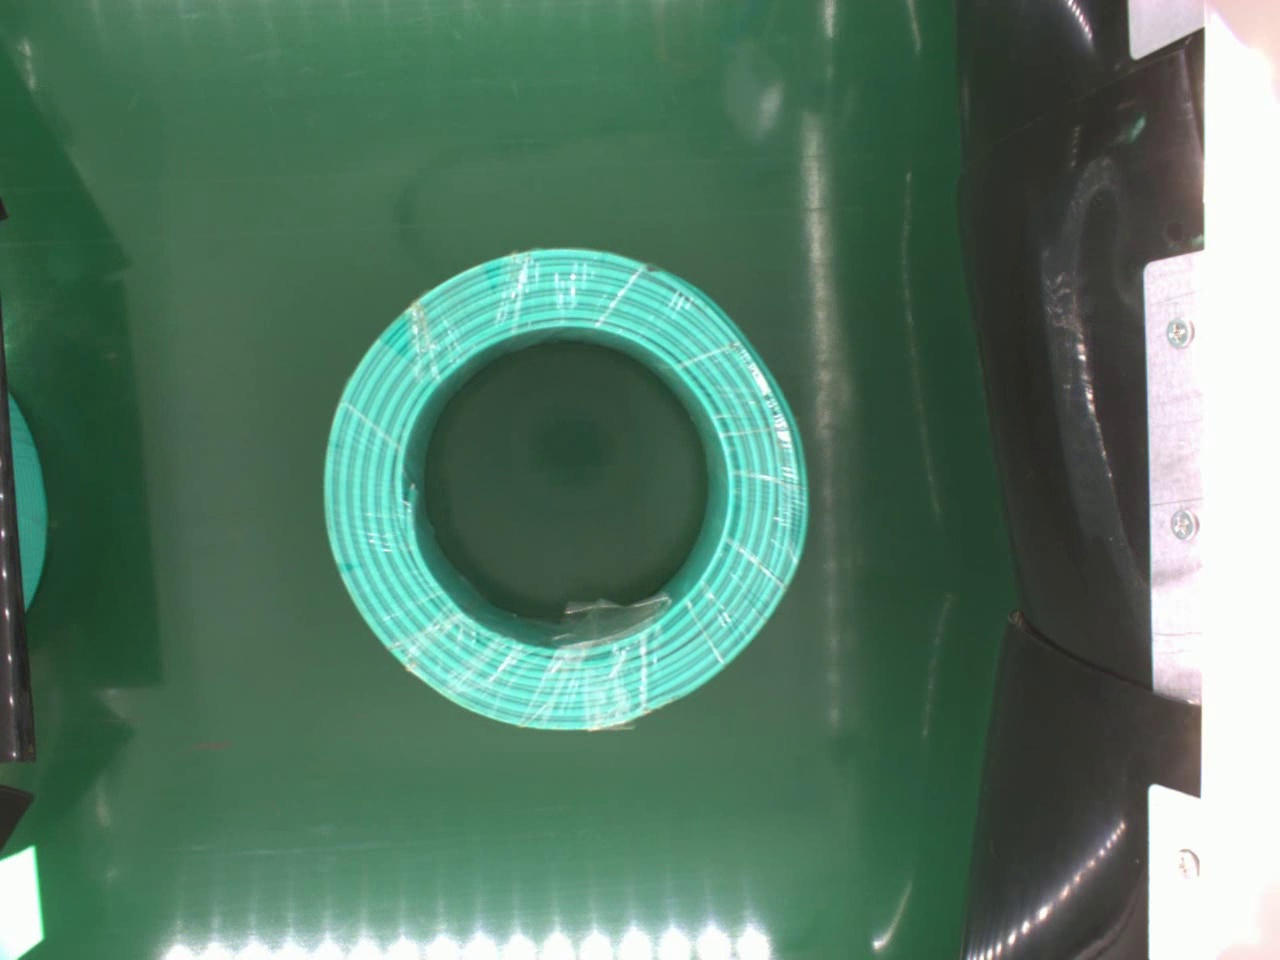green: (311, 244, 817, 731)
